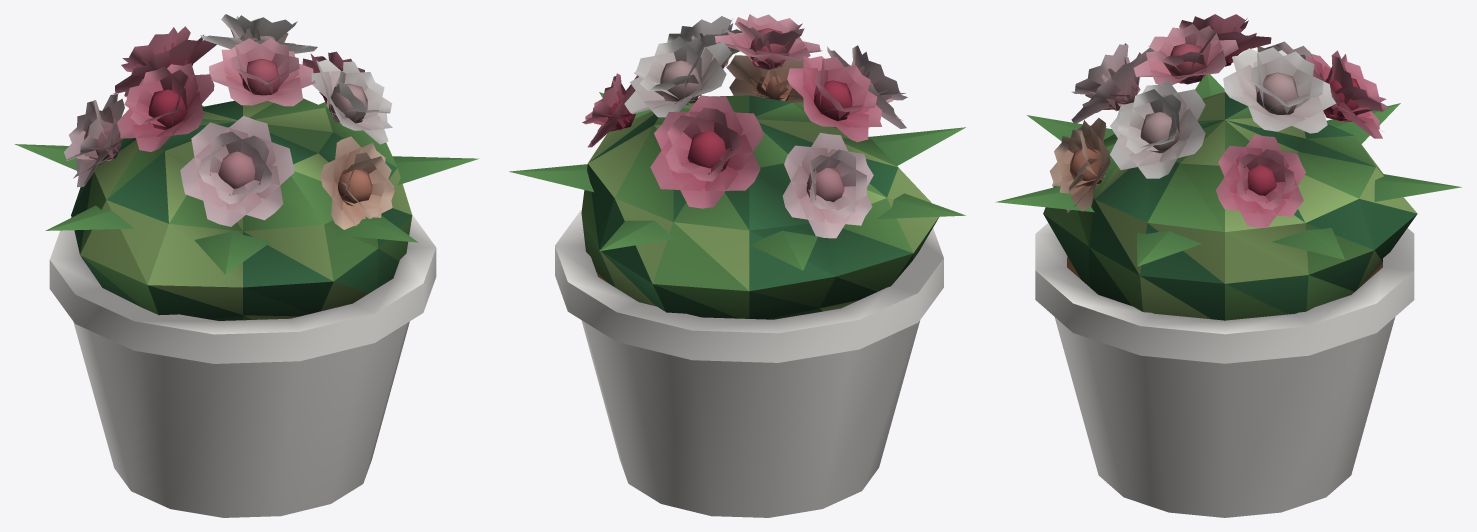
The model's file is chau-hoa.glb.
3 renders of one model, left to right at view 1: azimuth 30°, elevation 25°; view 2: azimuth 150°, elevation 25°; view 3: azimuth 270°, elevation 25°, orthographic.
Visible parts, largest first — view 1: chau-hoa; view 2: chau-hoa; view 3: chau-hoa.
Part boxes in pixels (x1,y1,x2,y2): chau-hoa: (14,14,478,517); chau-hoa: (509,14,965,517); chau-hoa: (995,14,1461,517).
Size of the model in its own units: 0.4377 by 0.4489 by 0.4414.
